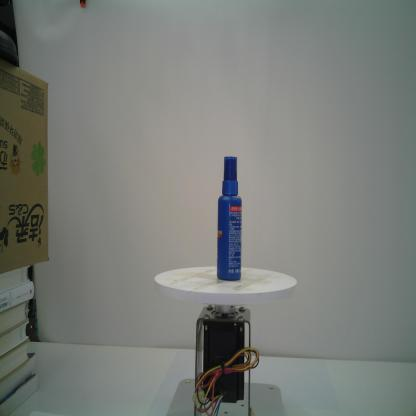Personal Hygiene: (216, 155, 243, 281)
